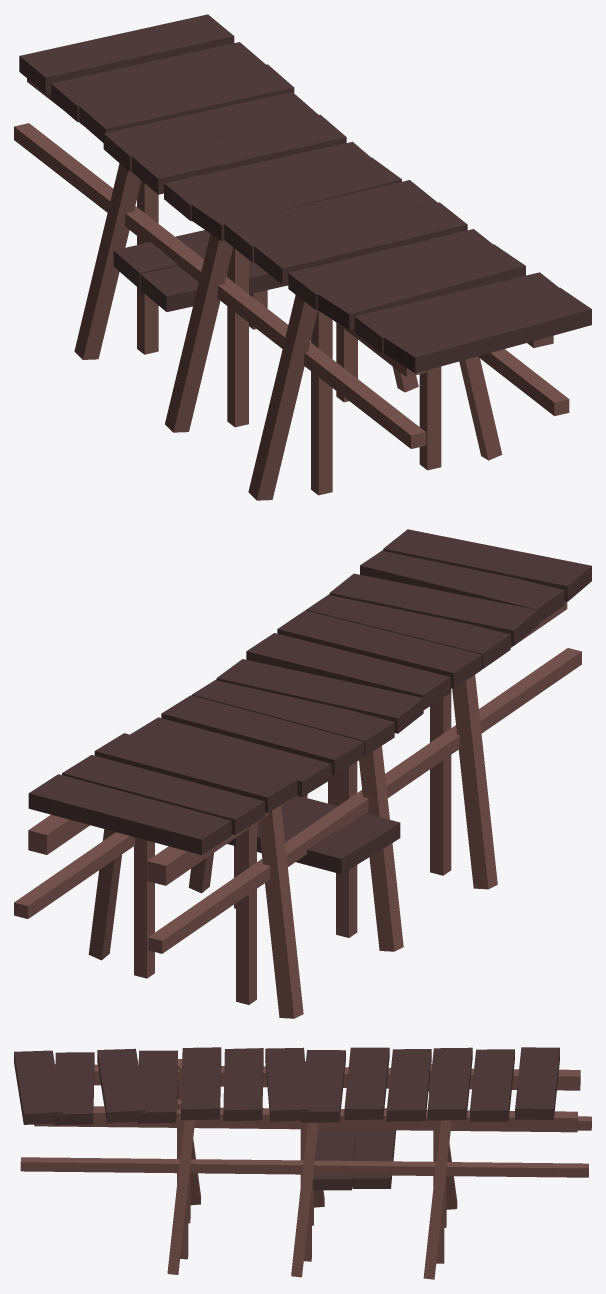
File: LightRoseWoodBridgeSmallRailBridge1.fbx
3 views of the same model, one above another, from view 1: azimuth 30°, elevation 25°; view 2: azimuth 150°, elevation 25°; view 3: azimuth 270°, elevation 25° (orthographic). The views are drawn at different scales.
Parts seen in each view (by area): view 1: LightRoseWoodBridgeSmallRailBridge1; view 2: LightRoseWoodBridgeSmallRailBridge1; view 3: LightRoseWoodBridgeSmallRailBridge1.
Part boxes in pixels (x1,y1,x2,y2): LightRoseWoodBridgeSmallRailBridge1: (14, 14, 591, 500); LightRoseWoodBridgeSmallRailBridge1: (14, 529, 591, 1018); LightRoseWoodBridgeSmallRailBridge1: (14, 1047, 591, 1279).
Bounding box in the file's own units: 566 × 534 × 1702.
